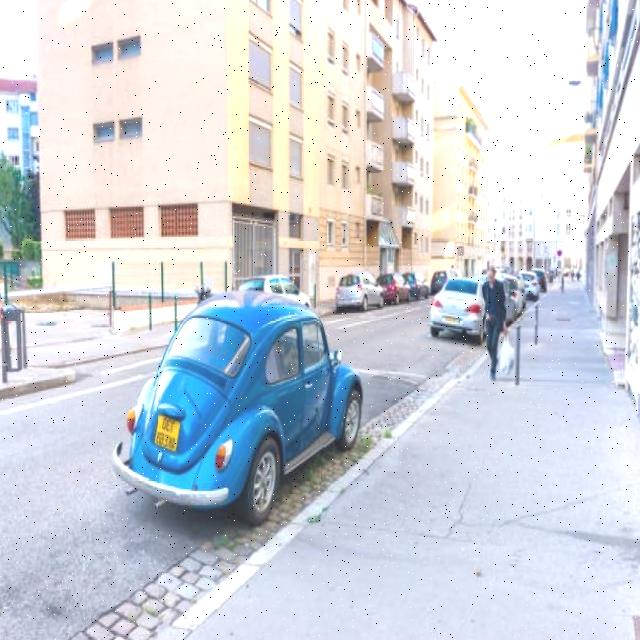car: (117, 290, 368, 513), (429, 276, 488, 335), (333, 274, 388, 312)
